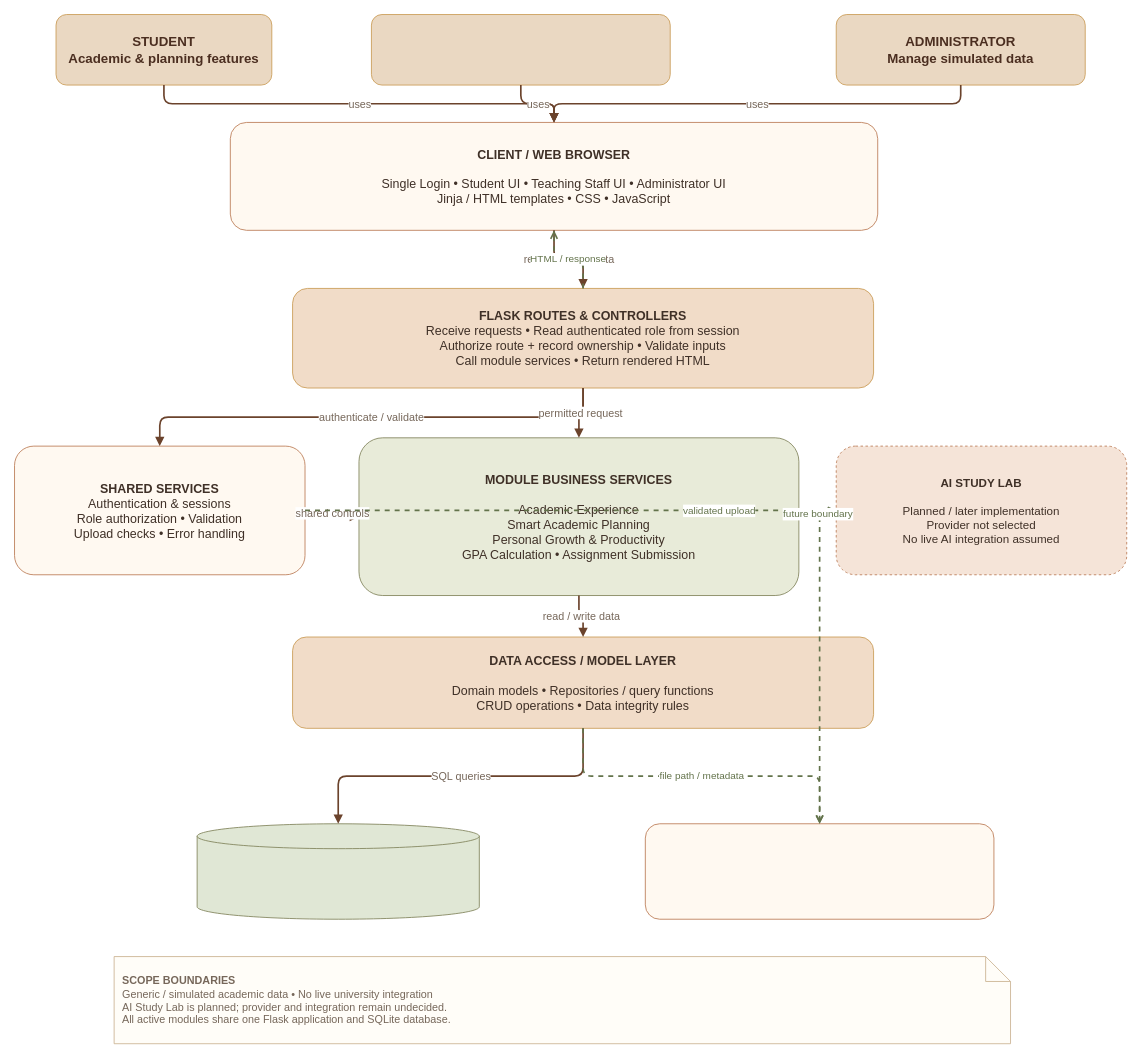
Some shapes in this 1141 by 1058 pixel diagram are drawn without their labels. Each missing label, with the centre of its shape:
LOCAL FILE STORAGE Uploaded files outside SQLite DB stores path + metadata: point 819,871
SQLITE DATABASE 25 entities • local DB file: point 337,871
TEACHING STAFF TA / INSTRUCTOR • Assigned courses: point 520,49
